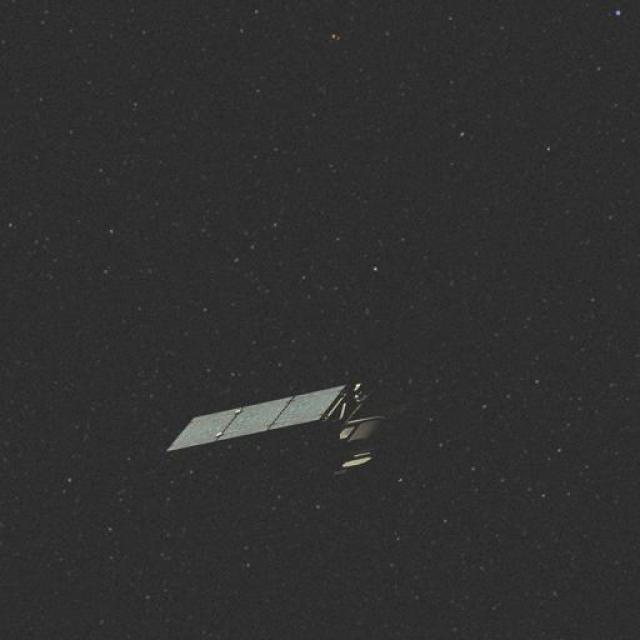earth_observation_sat_1: (160, 358, 399, 498)
